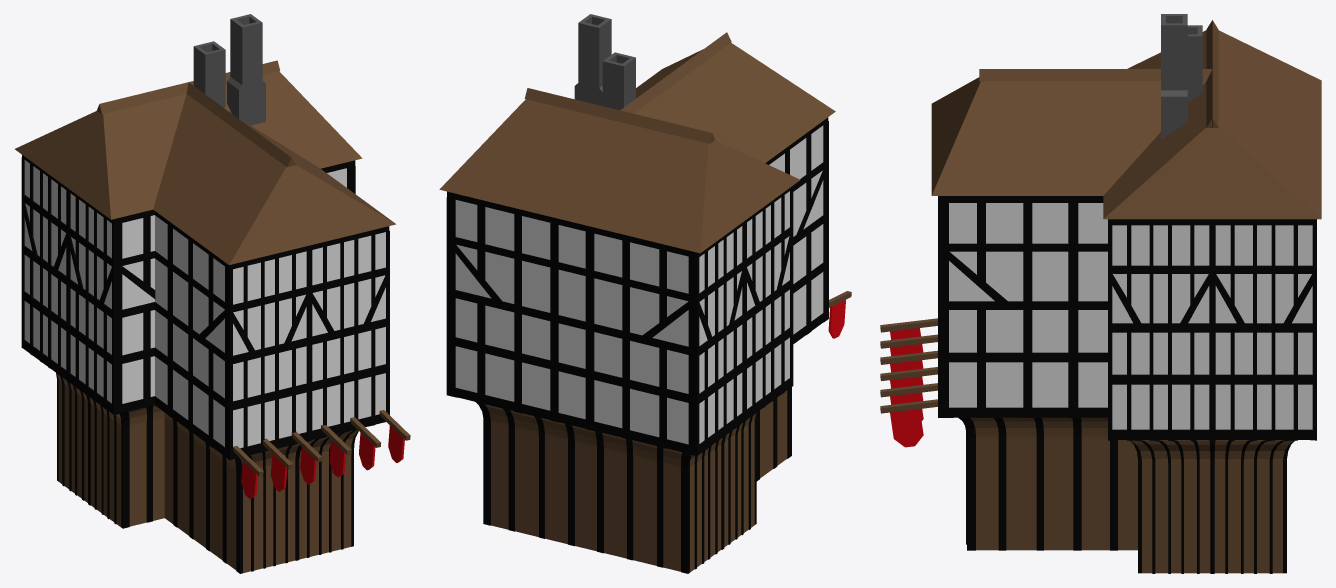
Rendered from 02_com_big_var1.fbx.
3 views of the same model, side by side, from view 1: azimuth 30°, elevation 25°; view 2: azimuth 150°, elevation 25°; view 3: azimuth 270°, elevation 25° (orthographic). The views are drawn at different scales.
Visible parts, largest first — view 1: Cube.006; view 2: Cube.006; view 3: Cube.006.
Part boxes in pixels (x1,y1,x2,y2): Cube.006: [15, 14, 410, 573]; Cube.006: [439, 14, 851, 573]; Cube.006: [880, 14, 1321, 573].
Size of the model in its own units: 75.89 by 133 by 102.
